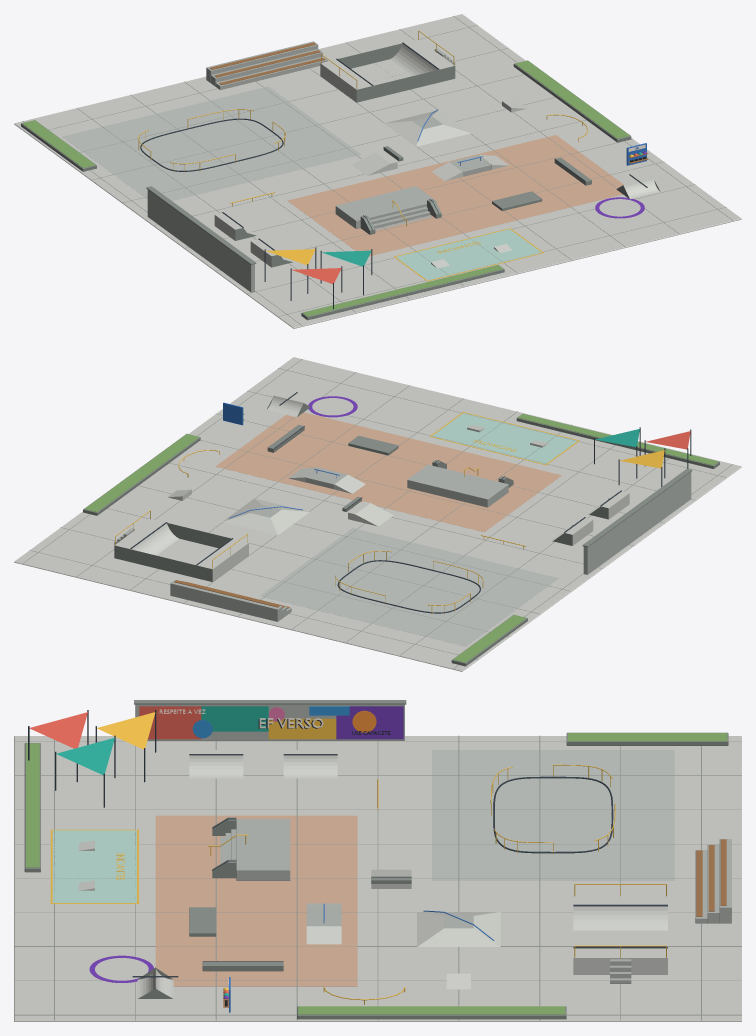
Rendered from skatepark.glb.
3 renders of one model, top to bottom at view 1: azimuth 30°, elevation 25°; view 2: azimuth 150°, elevation 25°; view 3: azimuth 270°, elevation 25°, orthographic. The views are drawn at different scales.
Visible parts, largest first — view 1: skatepark; view 2: skatepark; view 3: skatepark.
Part boxes in pixels (x1,y1,x2,y2): skatepark: (14, 14, 741, 328); skatepark: (14, 357, 741, 671); skatepark: (14, 700, 741, 1021).
Size of the model in its own units: 50 by 5.15 by 54.
